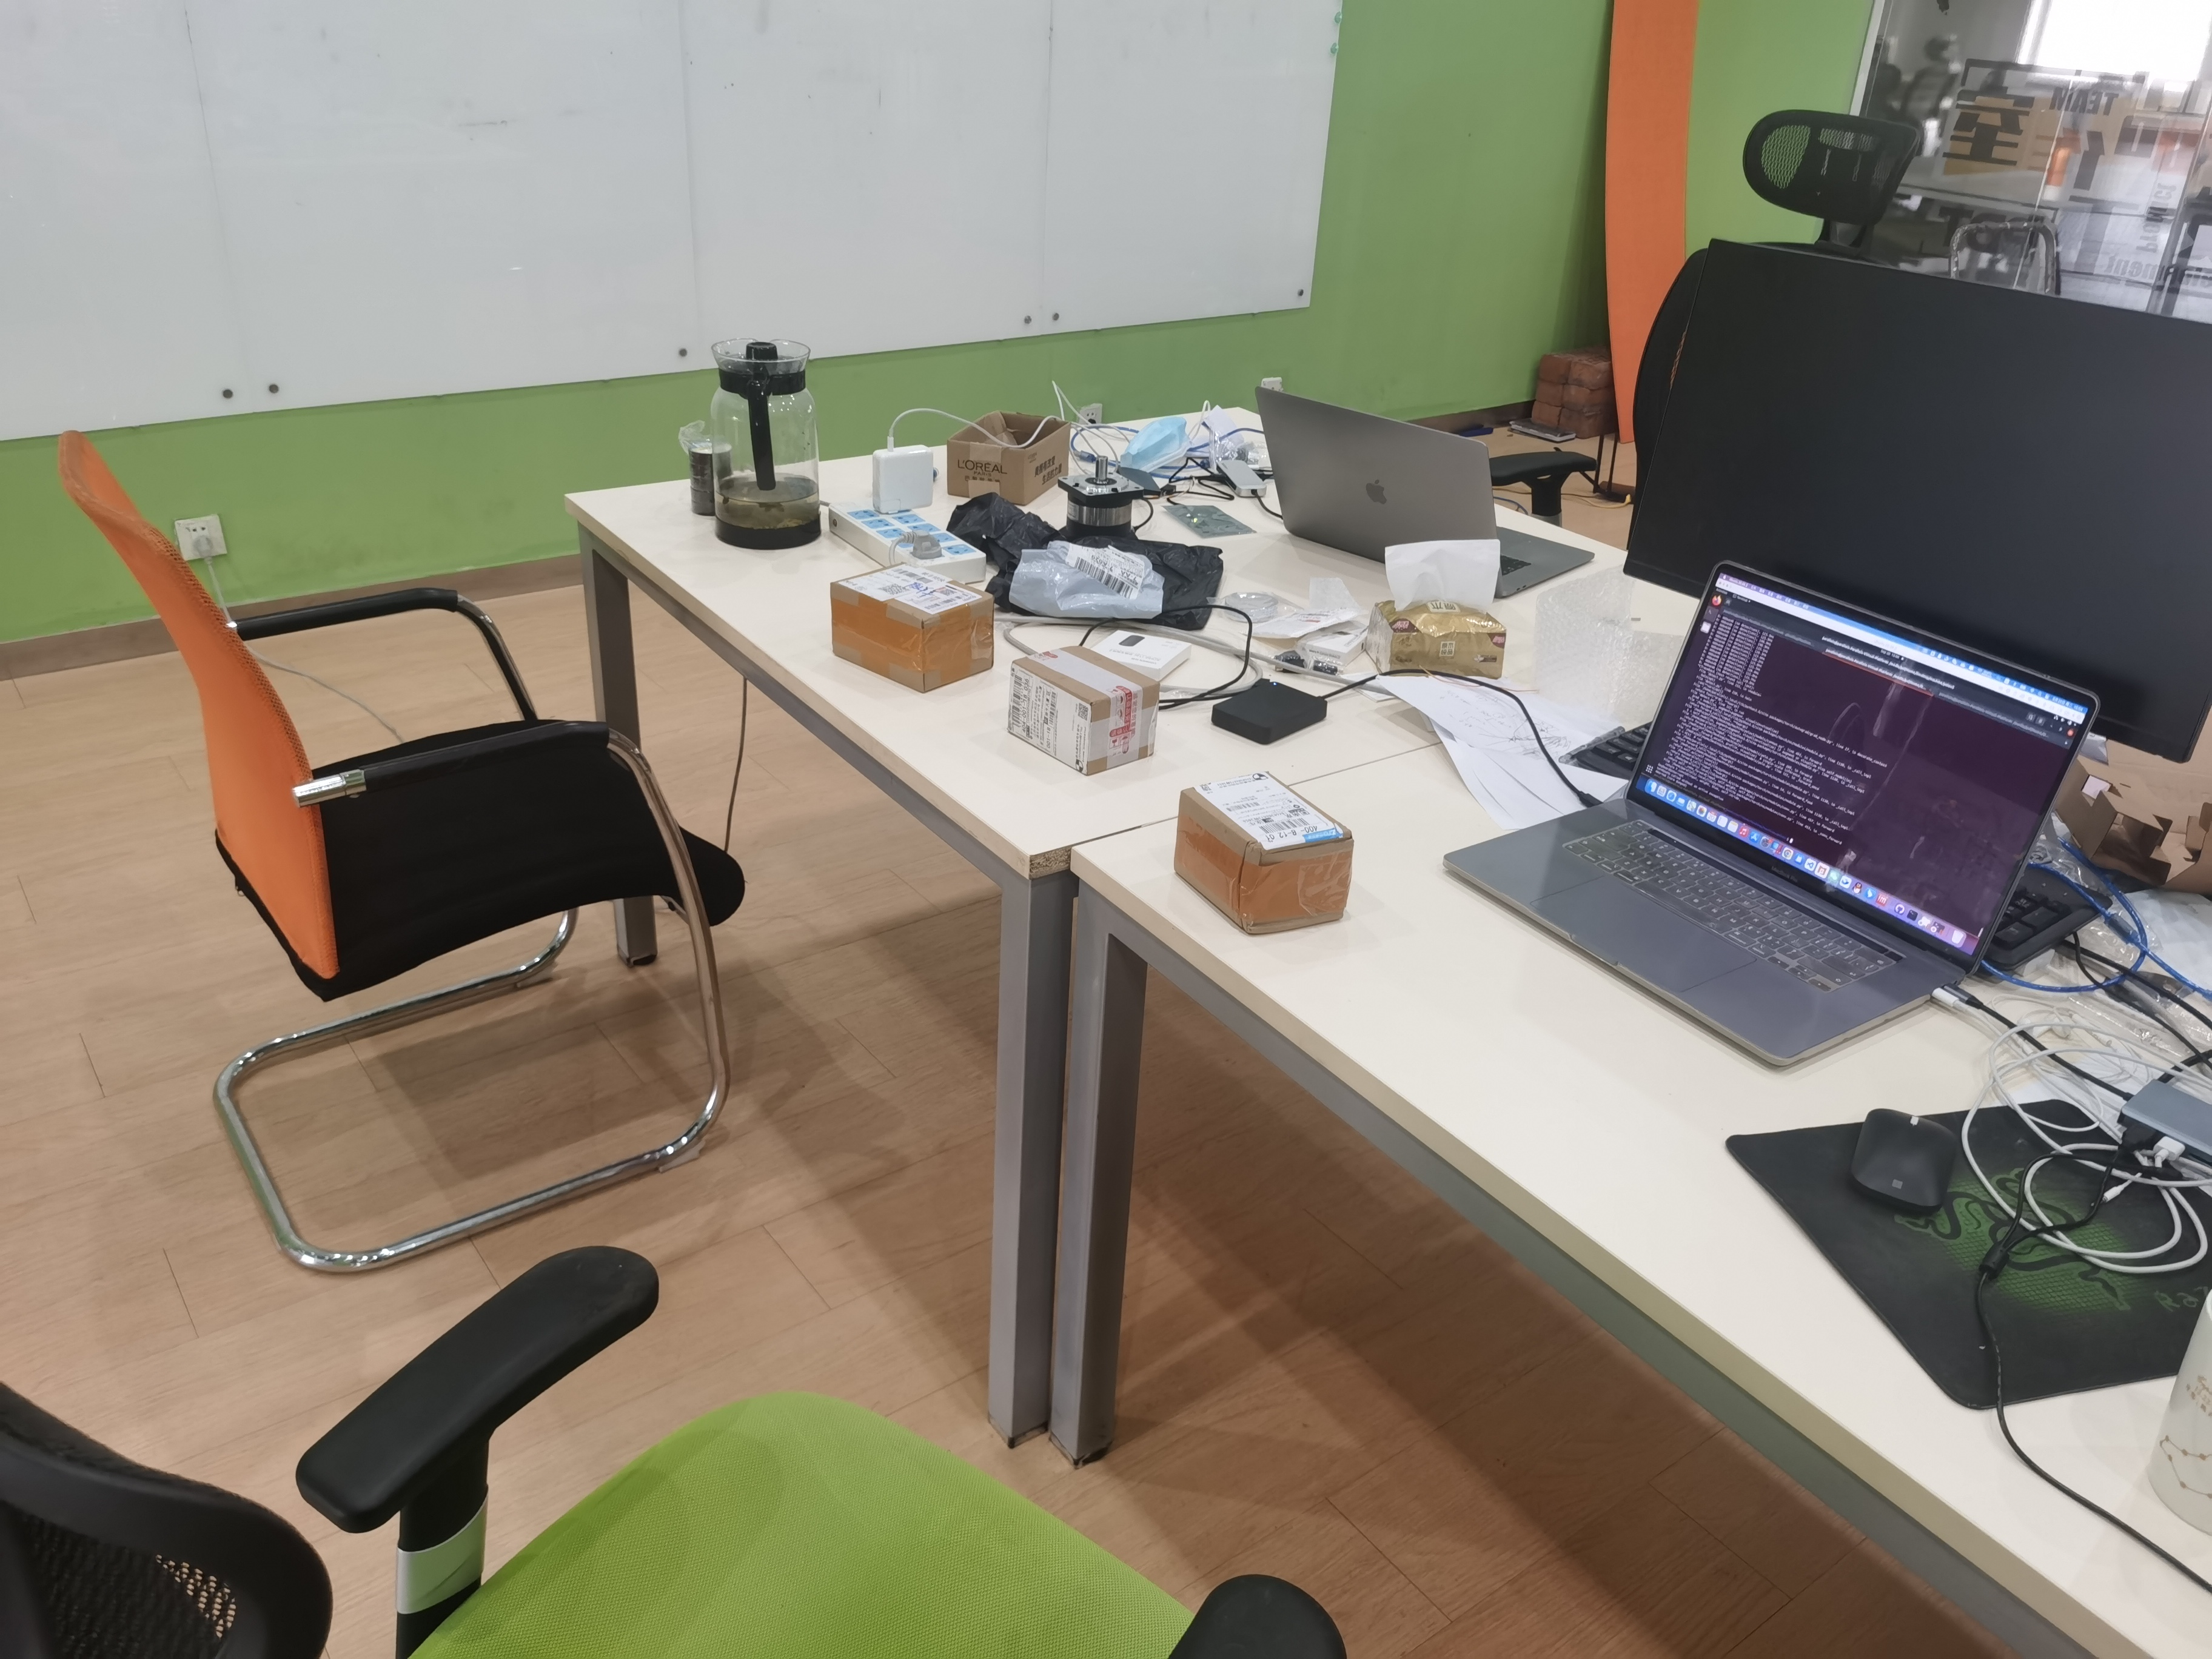box: (1167, 775, 1359, 945), (827, 565, 1001, 704), (1008, 640, 1160, 779)
